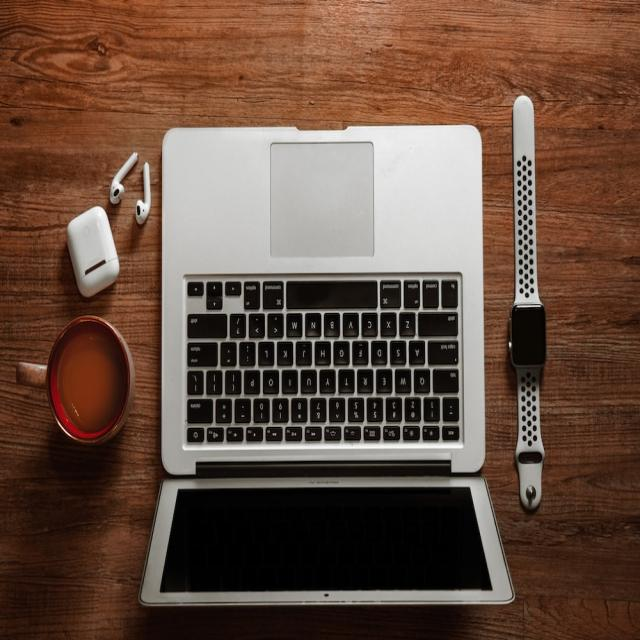keyboard: (182, 263, 466, 448)
